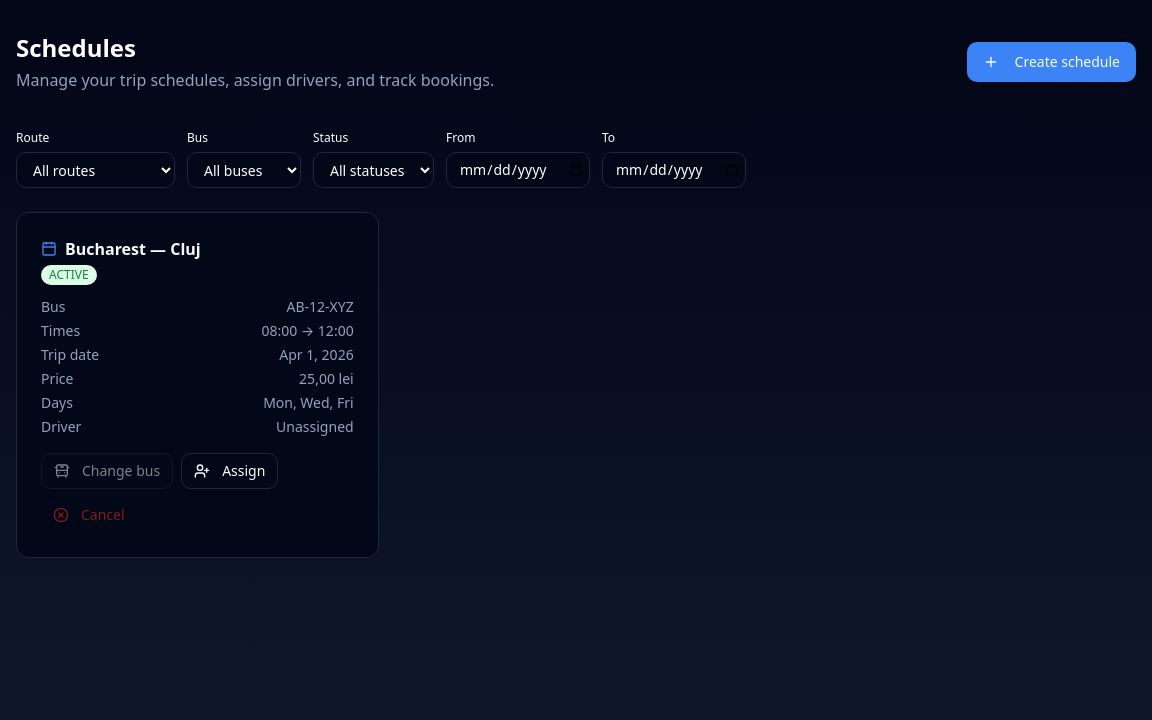
Test: ProviderSchedulesPage › cancel schedule › opens confirmation dialog when cancel button is clicked
Click the button with aria-label "cancel schedule bucharest": (89, 515) [41,497,137,533]
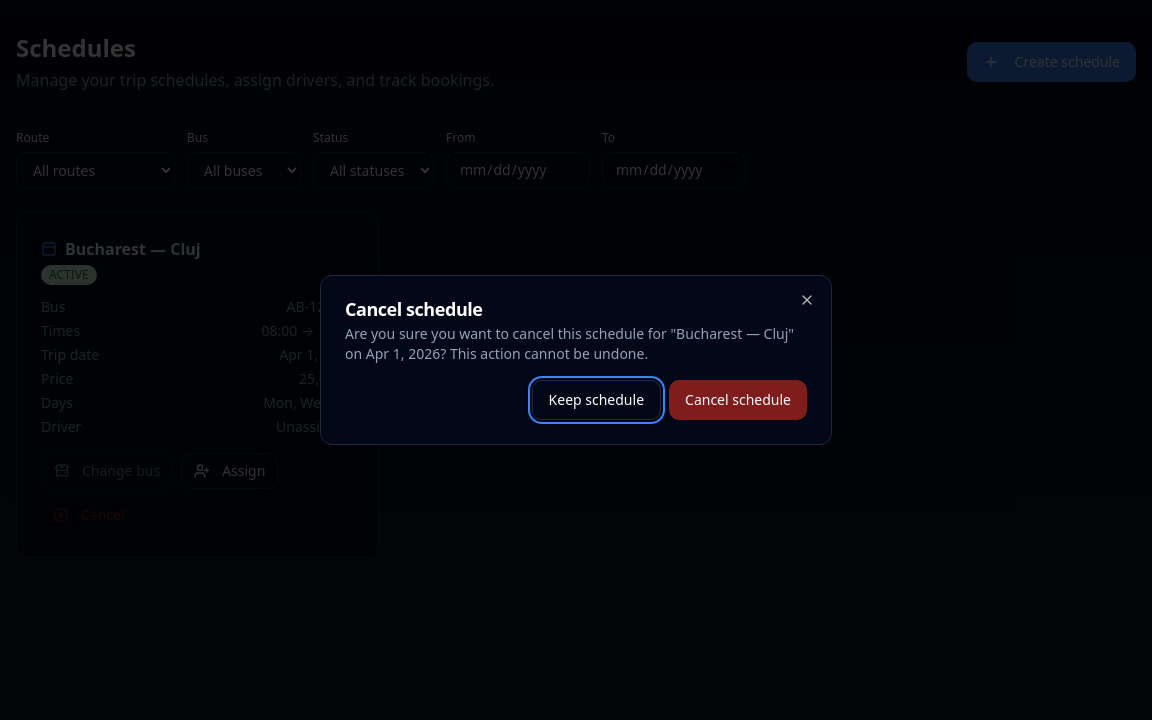
Expected: the heading "Cancel schedule" is shown, [345,297,482,321]
Expected: the text "Are you sure you want to cancel this schedule" is shown, [345,324,794,363]
